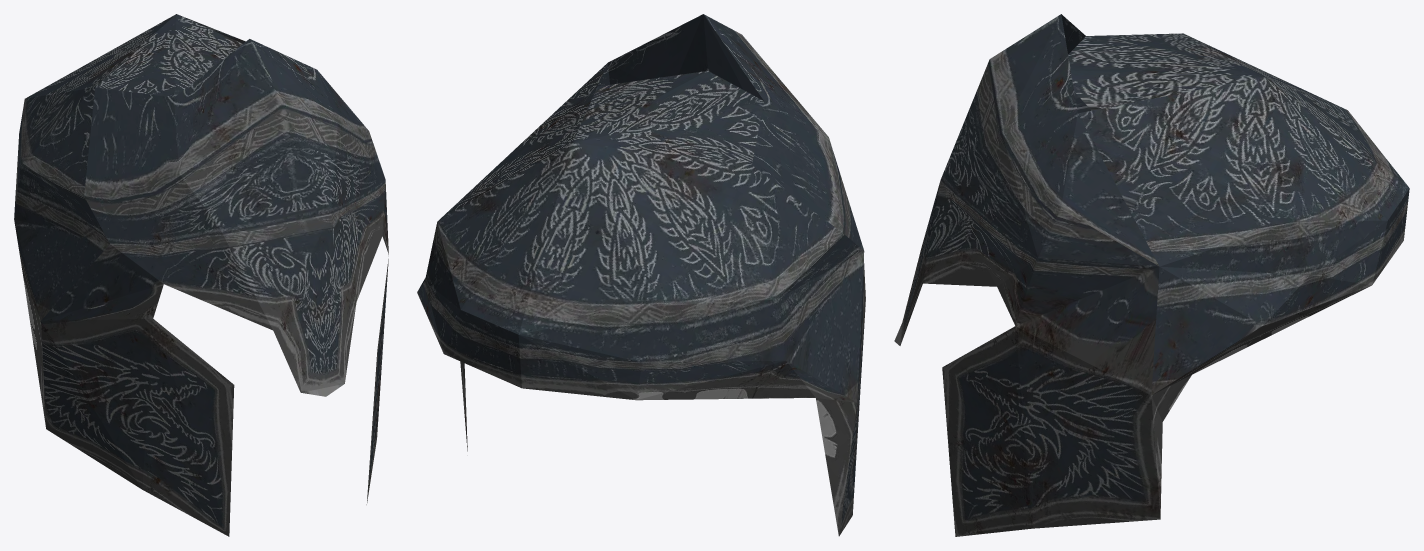
Rendered from WIKING2.glb.
The picture shows the model from 3 angles, left to right: view 1: azimuth 30°, elevation 25°; view 2: azimuth 150°, elevation 25°; view 3: azimuth 270°, elevation 25°; orthographic projection. The views are drawn at different scales.
Parts seen in each view (by area): view 1: WIKING2; view 2: WIKING2; view 3: WIKING2.
Boxes of the visible parts, <box> form: WIKING2: <box>14,14,388,536</box>; WIKING2: <box>417,14,865,536</box>; WIKING2: <box>894,14,1409,536</box>.
Bounding box in the file's own units: 0.2588 × 0.3225 × 0.3094.
1 material, 1 textured.
